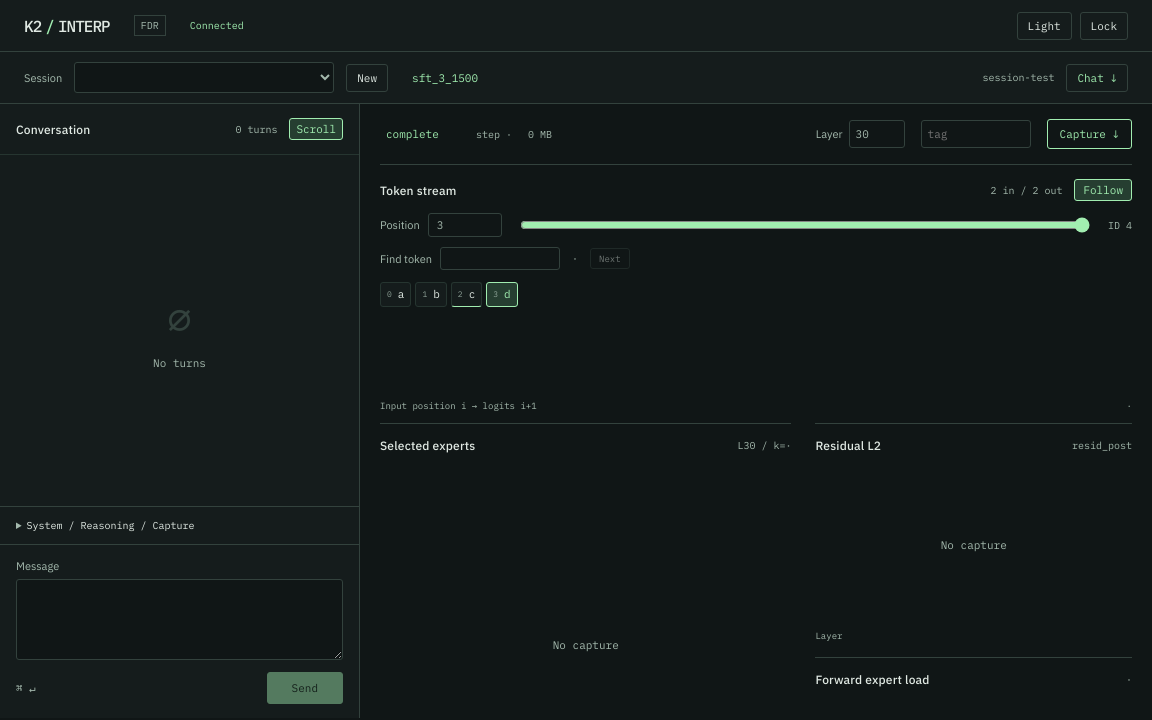
Test: clears a pending token inspection when returning to Follow
Replace the text in the number field labelled "Position" with "1": (465,225) [428,213,502,237]
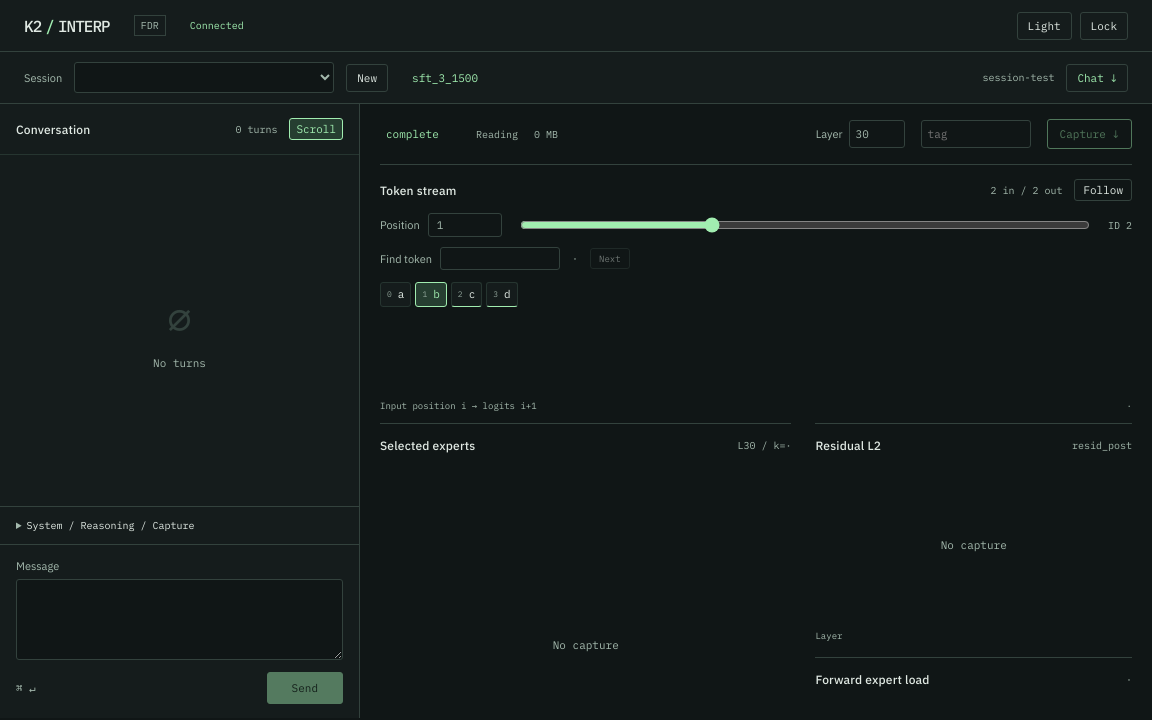
Now the text "Reading" is shown, box [476,128,518,140]
Now the button "Capture ↓" is disabled, box [1047,119,1132,149]
Click the button "Follow": (1103,190) [1074,179,1132,201]
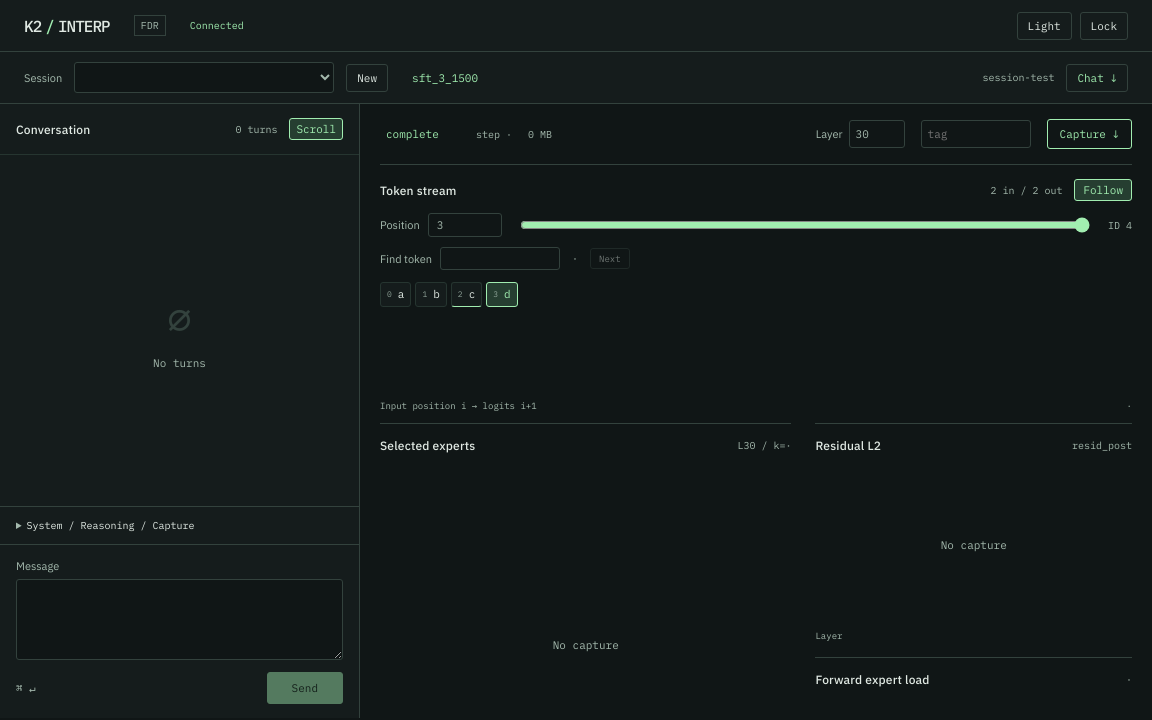
Now the button "Capture ↓" is enabled, box [1047,119,1132,149]
